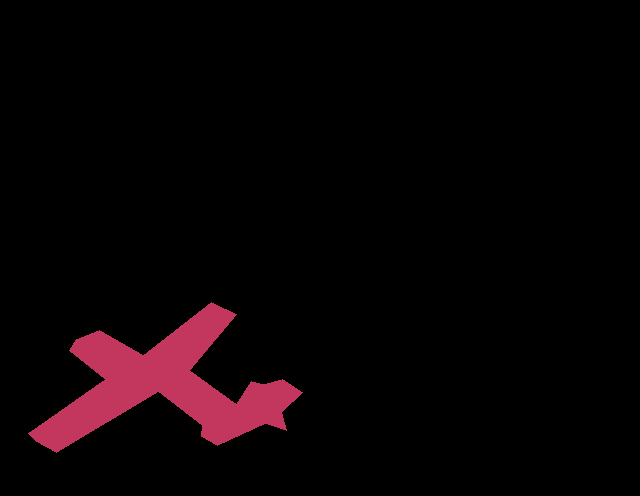Airplane: (28, 302, 303, 452)
